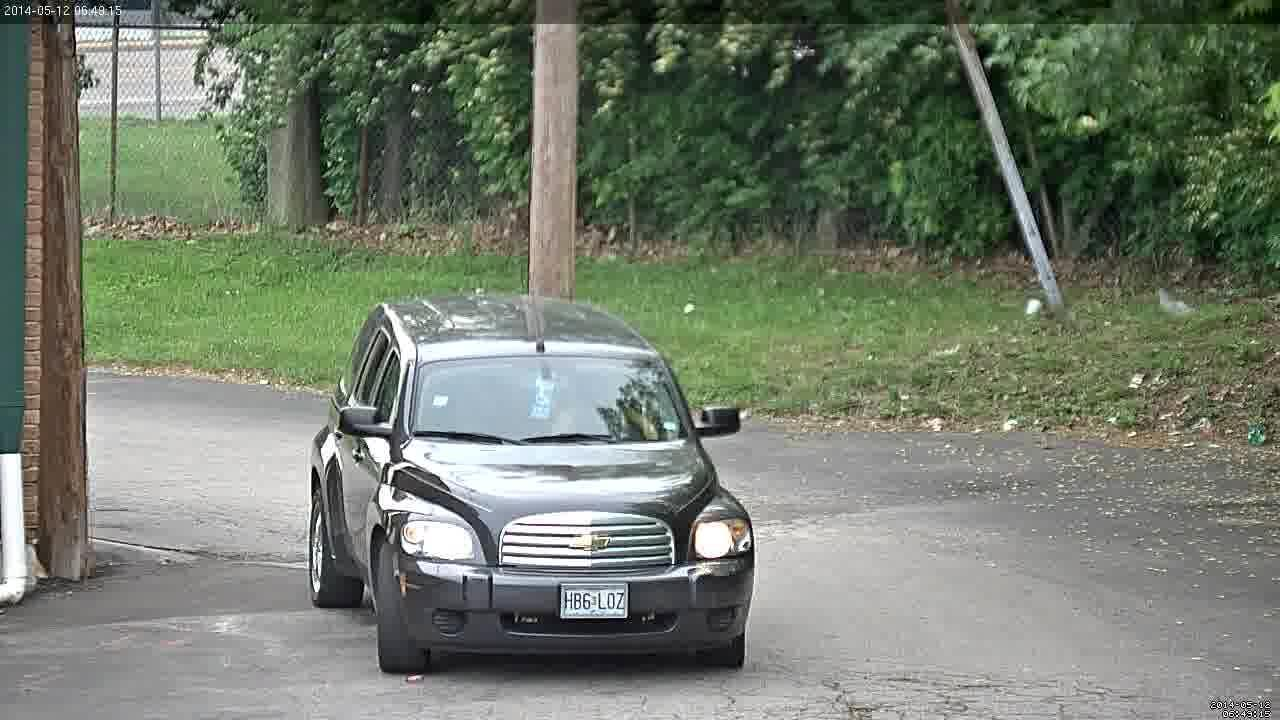placa de veiculo: (539, 571, 651, 632)
